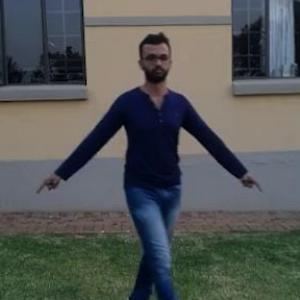land: (70, 46, 237, 294)
